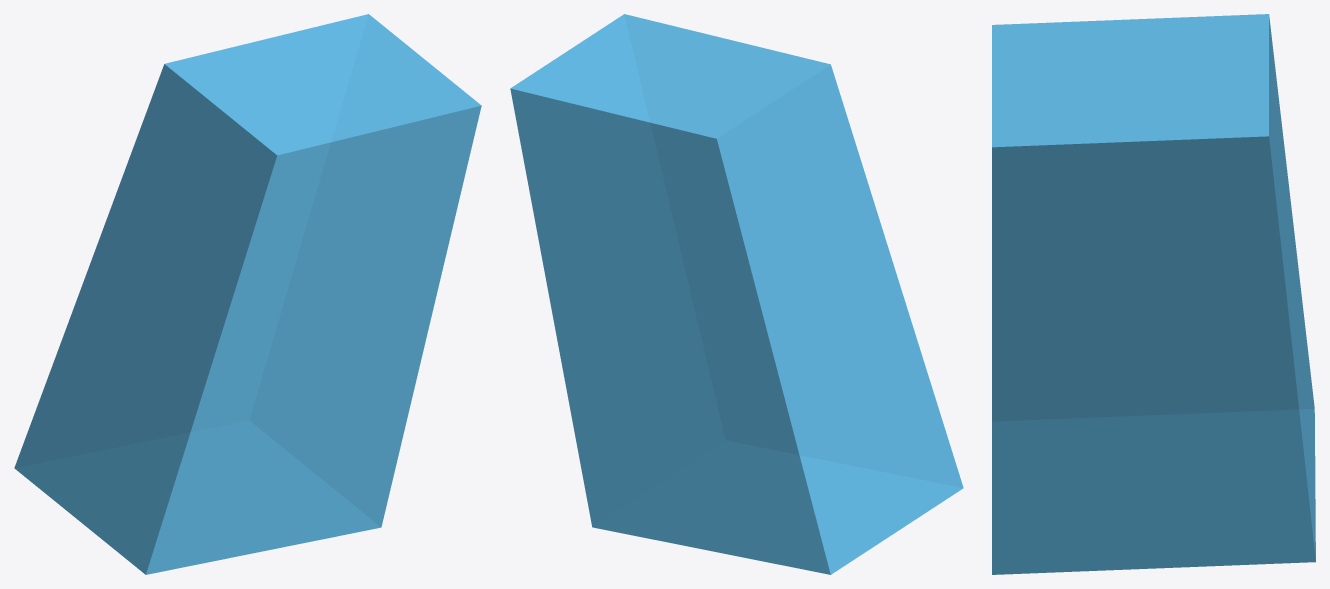
The model's file is Event_421556567_HBrechit_1.fbx.
3 views of the same model, side by side, from view 1: azimuth 30°, elevation 25°; view 2: azimuth 150°, elevation 25°; view 3: azimuth 270°, elevation 25° (orthographic). The views are drawn at different scales.
Visible parts, largest first — view 1: Model; view 2: Model; view 3: Model.
Part boxes in pixels (left/top/right/bottom): Model: left=14, top=14, right=481, bottom=574; Model: left=510, top=14, right=963, bottom=574; Model: left=992, top=14, right=1315, bottom=574.
Size of the model in its own units: 0.6891 by 0.7968 by 0.4692.
